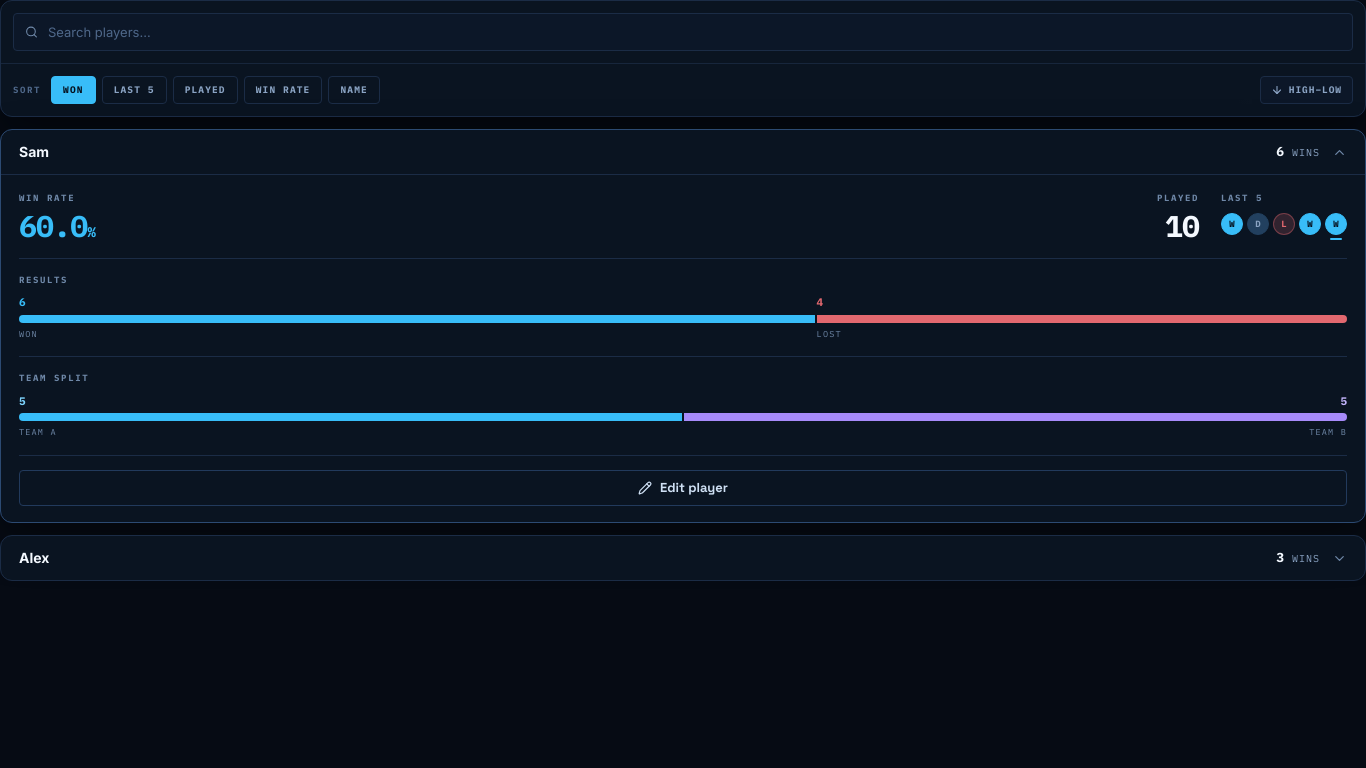
Test: PublicPlayerList editing › refreshes the page and closes the modal after saving
The image size is (1366, 768).
Click the button "Edit player" at (683, 488), box [19, 470, 1347, 506]
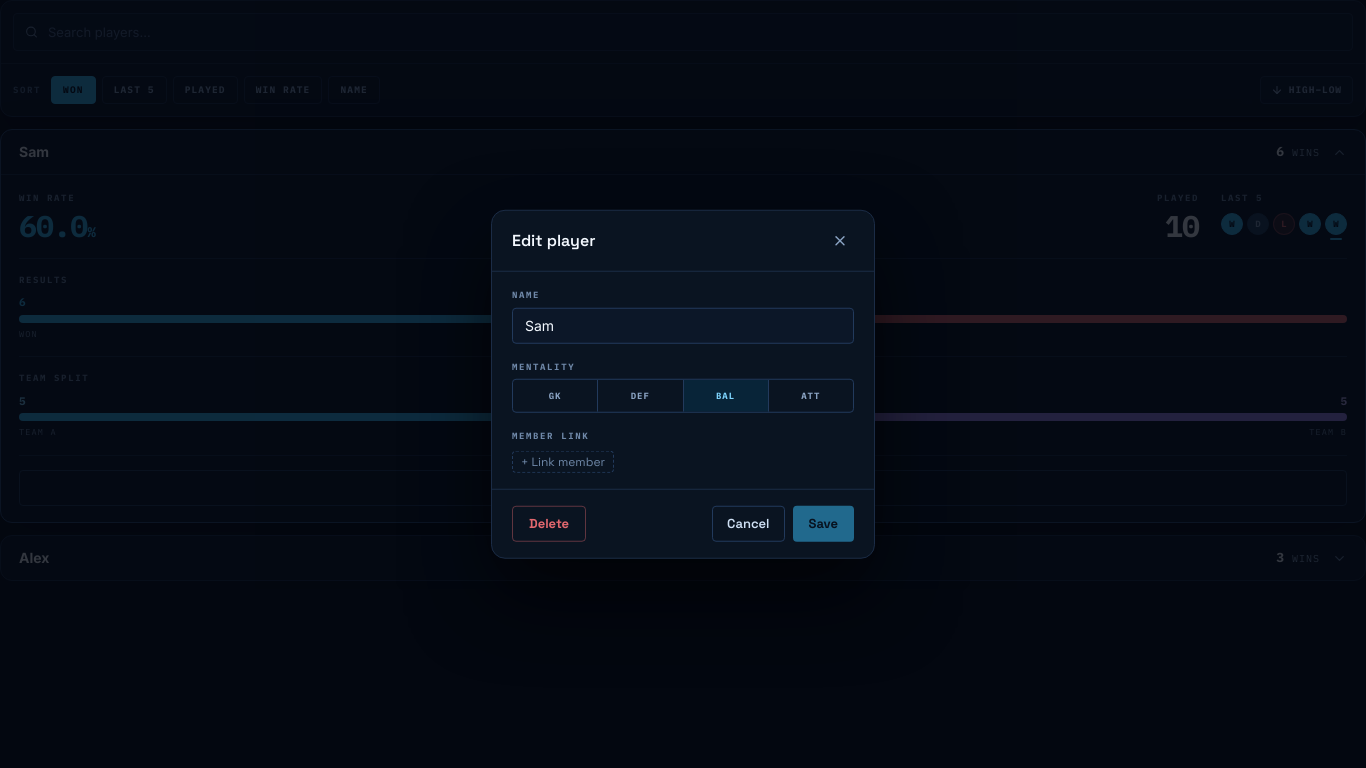
Replace the text in the field labelled "Name" with "Sammy" at (683, 325), box [512, 307, 854, 343]
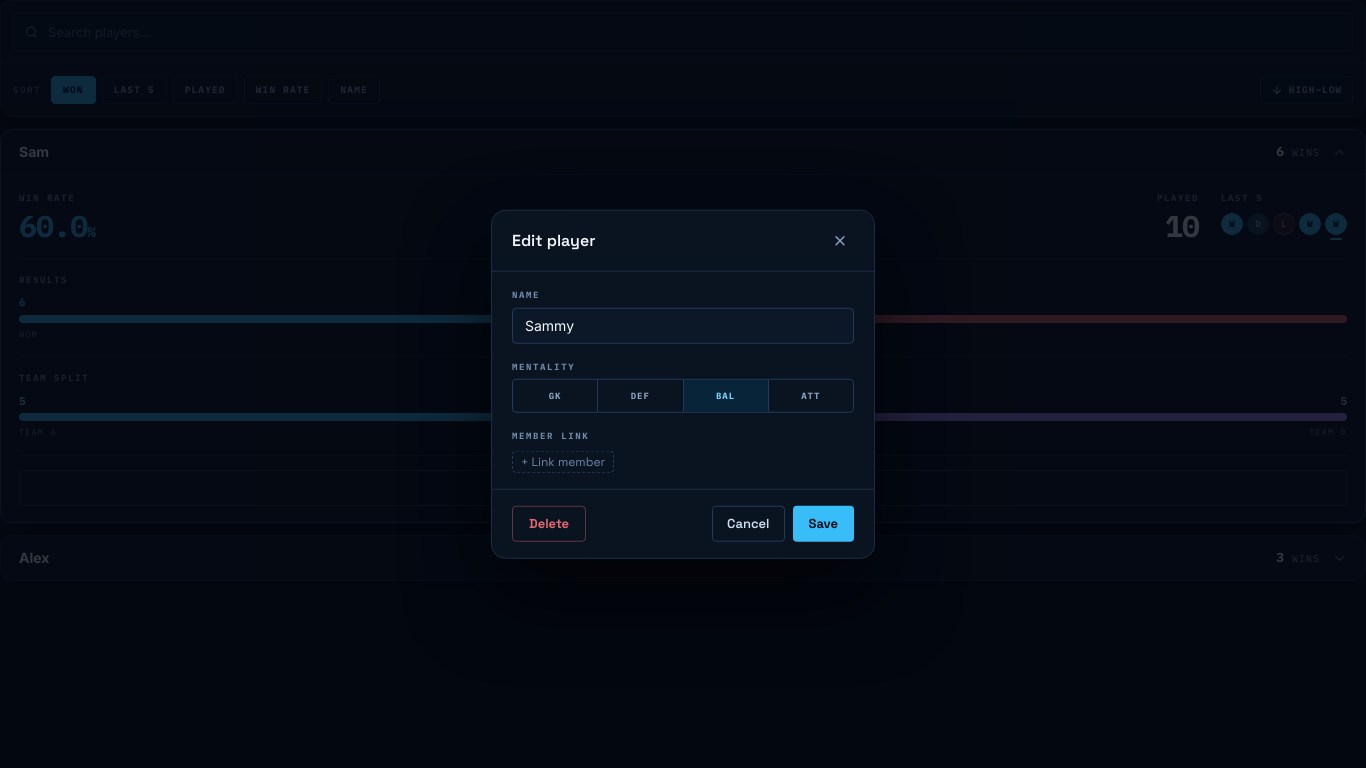
Click the button "Save" at (823, 523), box [792, 505, 854, 541]
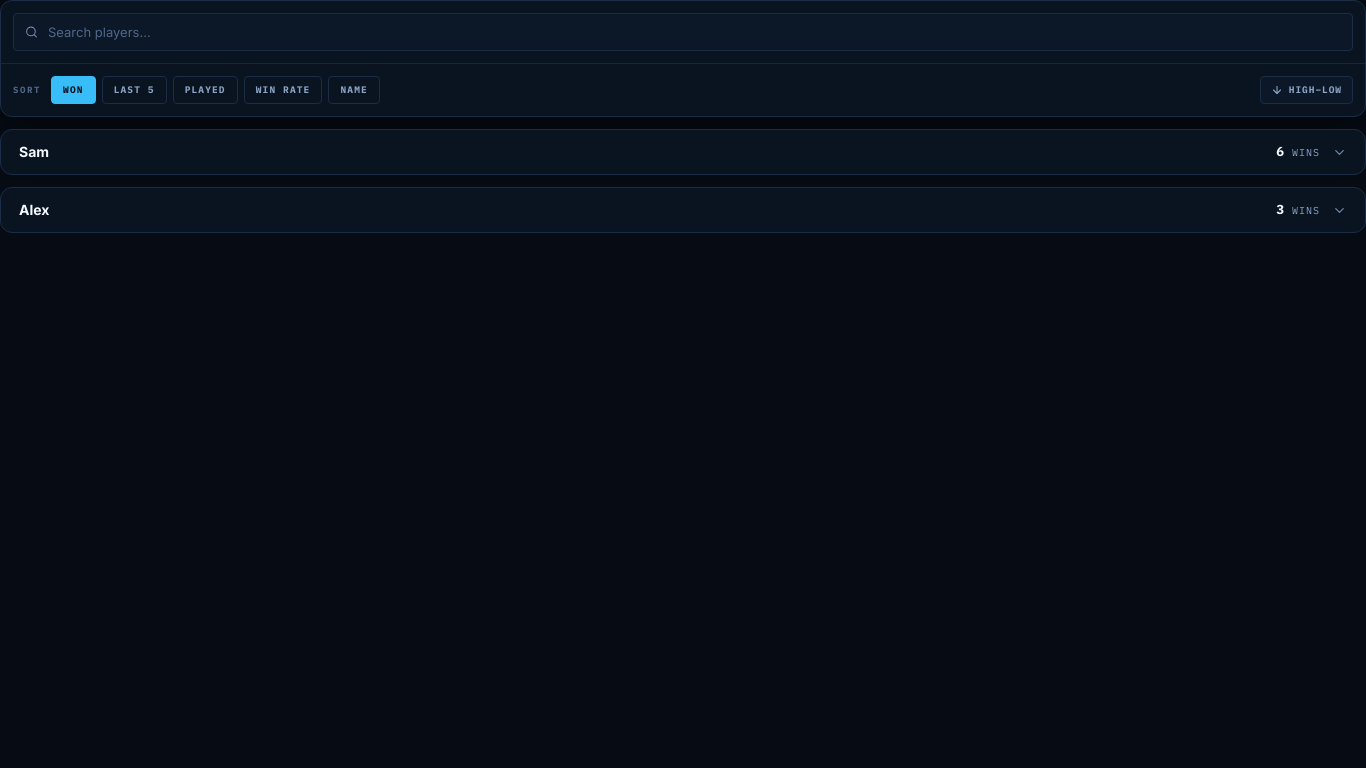
expect the dialog is gone: met
